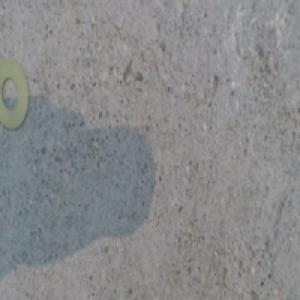Washer: (1, 59, 29, 131)
